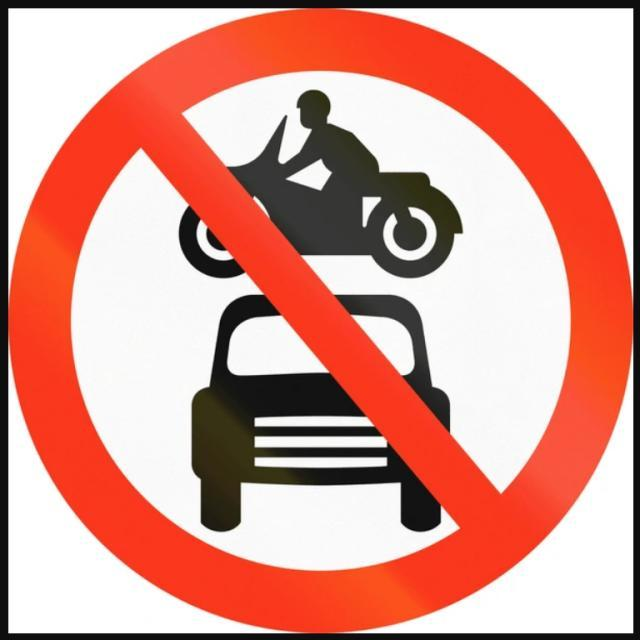all motor vehicle prohibited: (23, 25, 621, 623)
